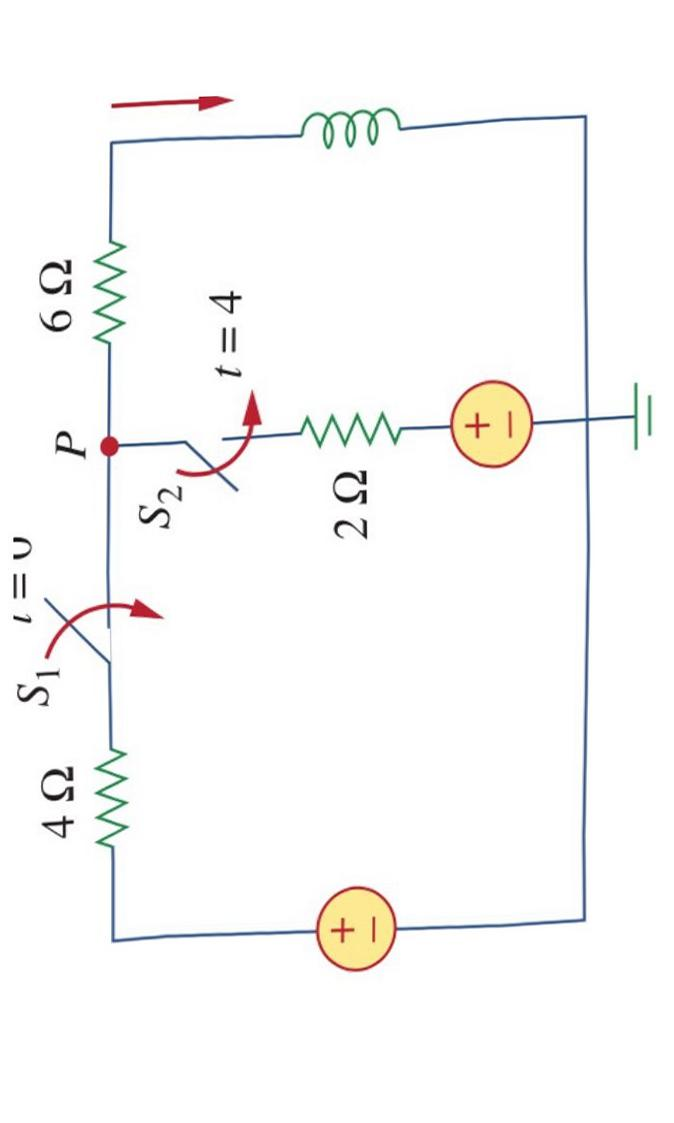Battery: (281, 848, 442, 1012), (412, 347, 558, 511)
